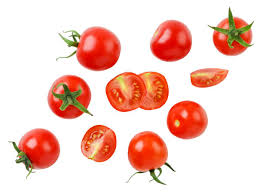tomate: (31, 9, 227, 174)
